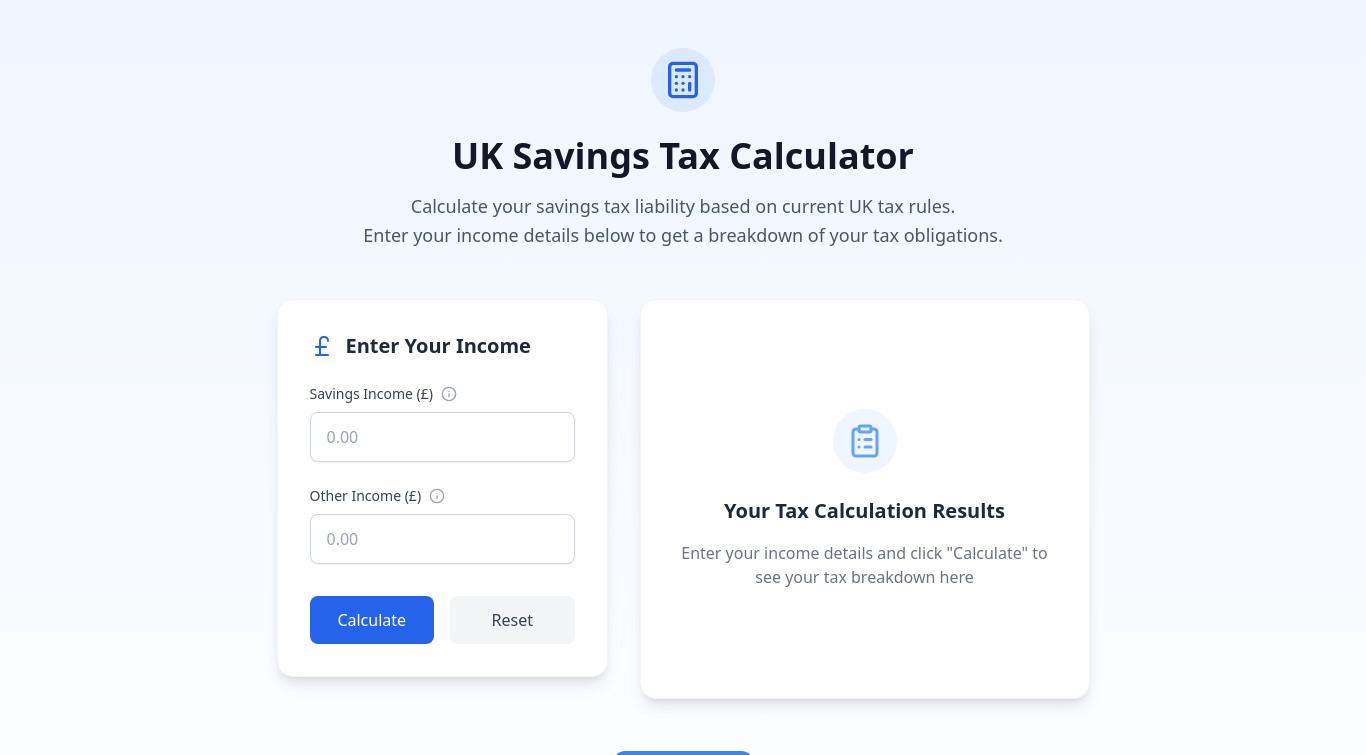
Test: tax band from the calculation › shows the calculated basic-rate band after the person enters £50,270 of savings and no other income
Type "50270" into the field with placeholder "0.00" below "Savings Income (£)" at x=442, y=436, box [310, 412, 574, 462]
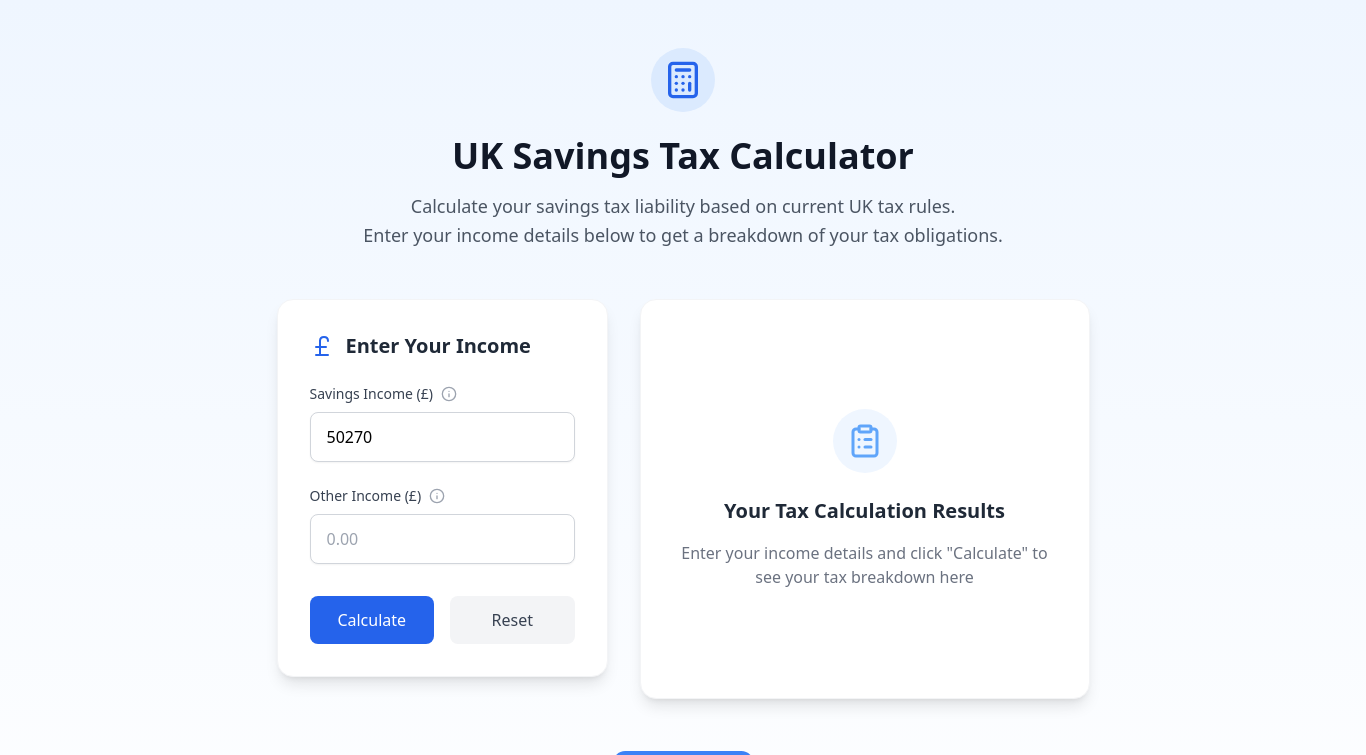
Type "0" into the field with placeholder "0.00" at x=442, y=538, box [310, 514, 574, 564]
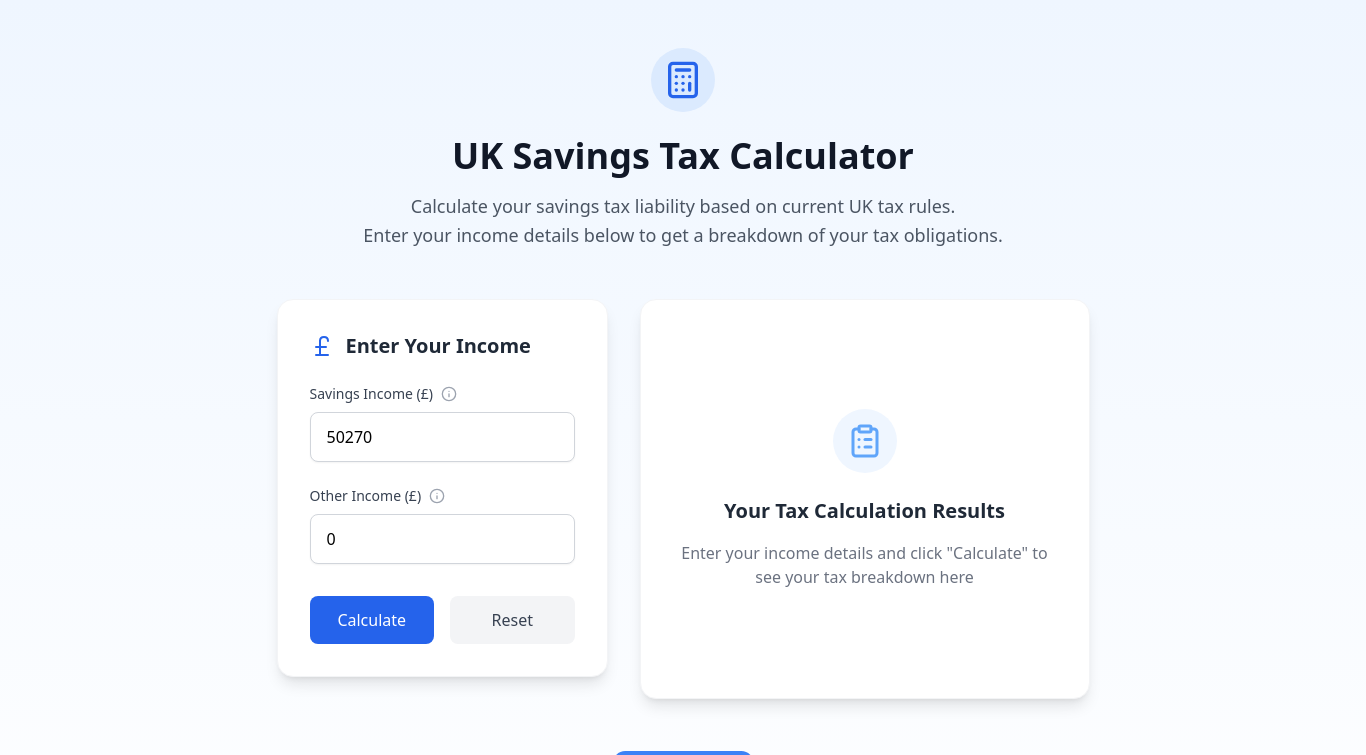
Click the button "Calculate" at x=372, y=620, box [310, 596, 434, 644]
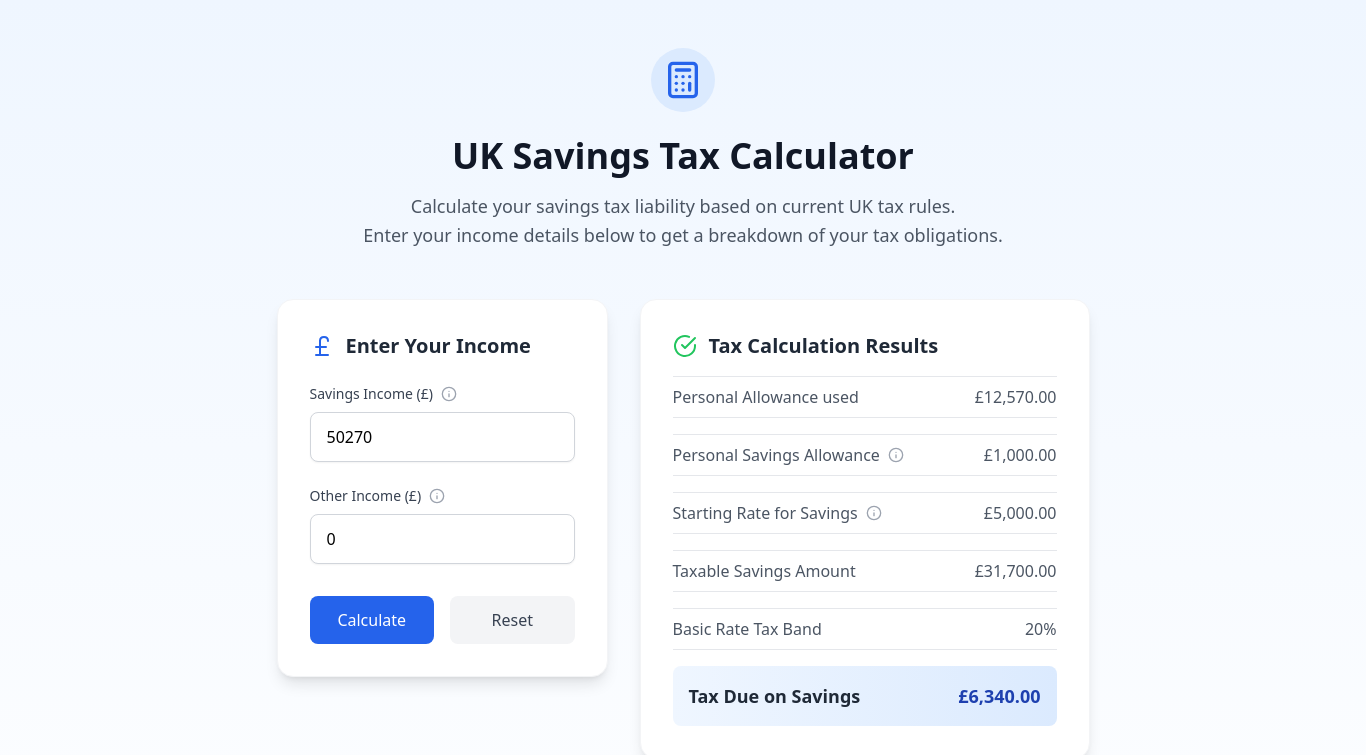
Now the text "Basic Rate Tax Band" is shown, box [672, 618, 822, 640]
Now the text "20%" is shown, box [1025, 616, 1056, 640]
Now the text "£6,340.00" is shown, box [958, 682, 1040, 710]
